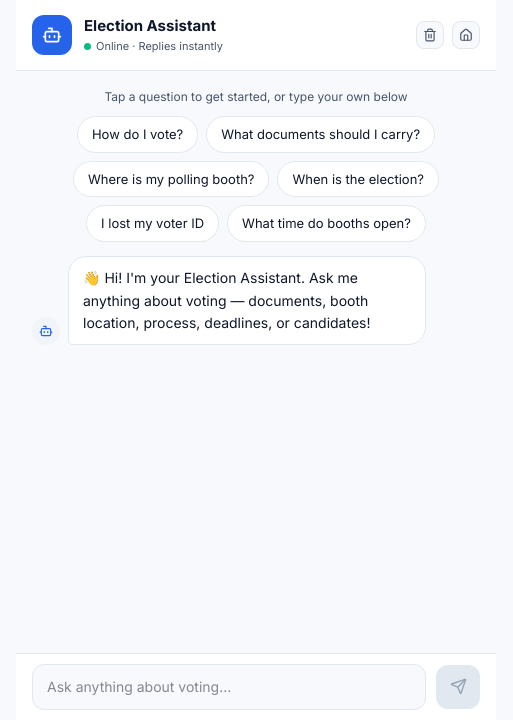
Test: ChatPage › shows fallback message for unknown query
This screenshot has width=513, height=720.
Type "Tell me about quantum physics please?" into the field named "type your question". click: (229, 687)
box: [32,664,426,710]
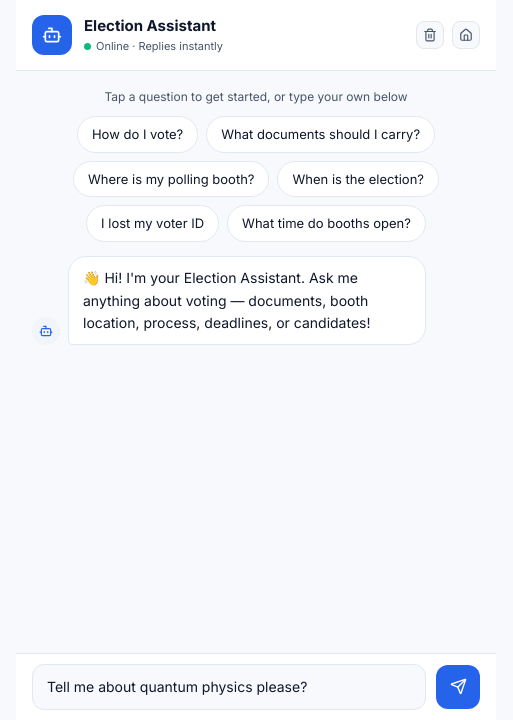
Press Enter
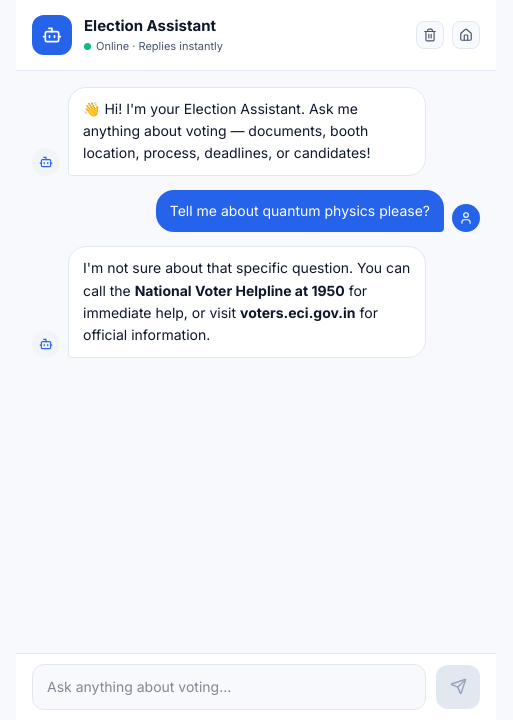
expect the text "National Voter Helpline at 1950" is shown: met, box [135,282,345,298]
